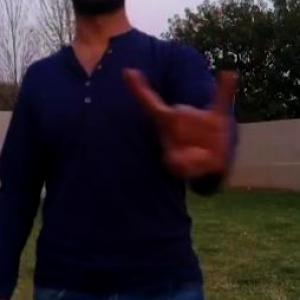takeoff-hand: (123, 58, 244, 179)
